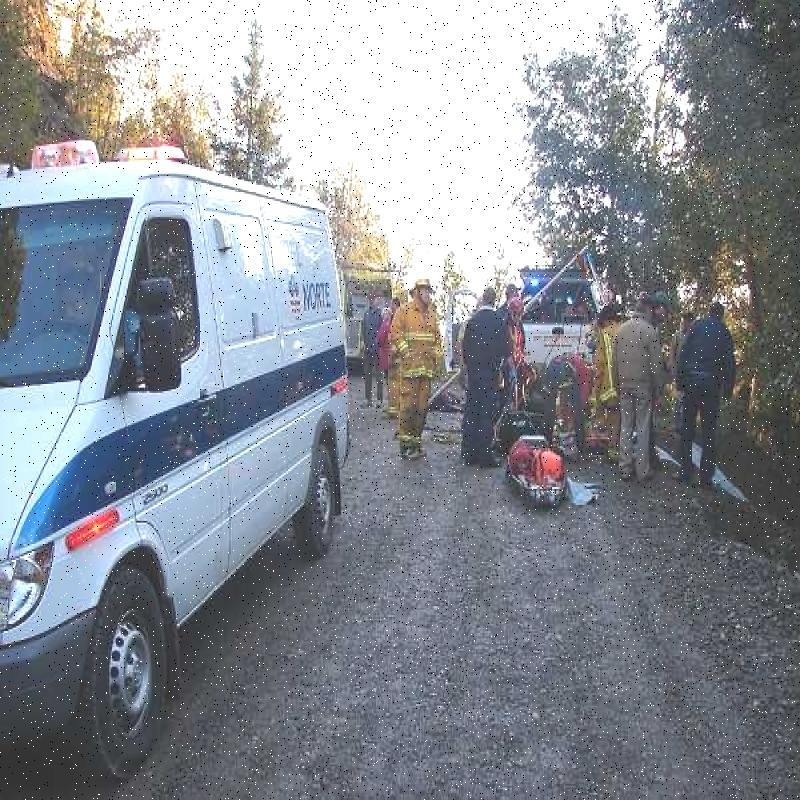AmbulanceSiren: (18, 134, 186, 181)
